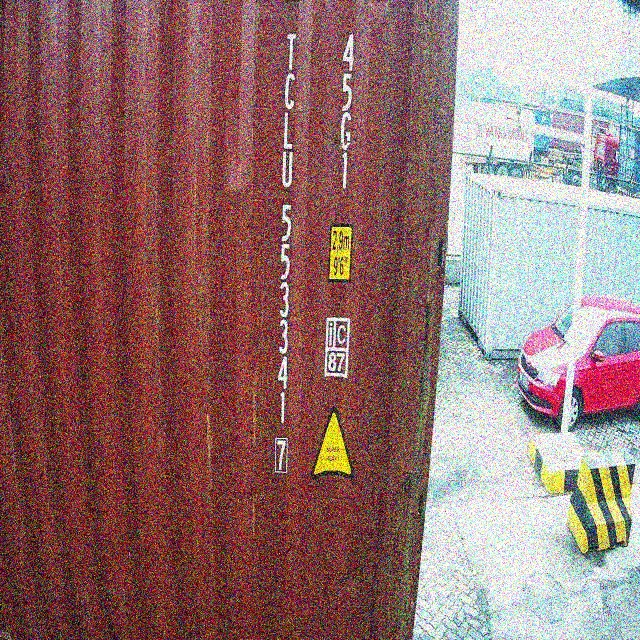Dent: (229, 133, 258, 238)
